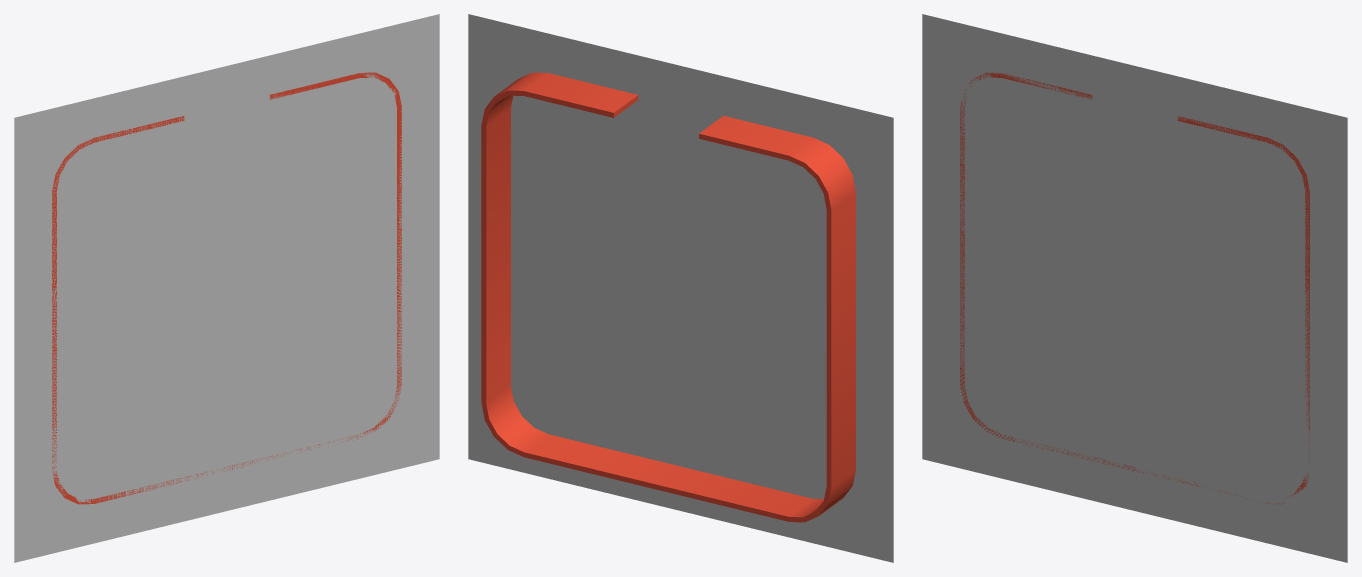
Rendered from L_Construction01.fbx.
The picture shows the model from 3 angles, left to right: view 1: azimuth 30°, elevation 25°; view 2: azimuth 150°, elevation 25°; view 3: azimuth 330°, elevation 25°; orthographic projection.
Visible parts, largest first — view 1: land_construction; view 2: land_construction; view 3: land_construction.
Boxes of the visible parts, x1=… form: land_construction: x1=14, y1=14, x2=439, y2=562; land_construction: x1=468, y1=14, x2=893, y2=562; land_construction: x1=922, y1=14, x2=1347, y2=562.
Size of the model in its own units: 2000 by 2000 by 200.
